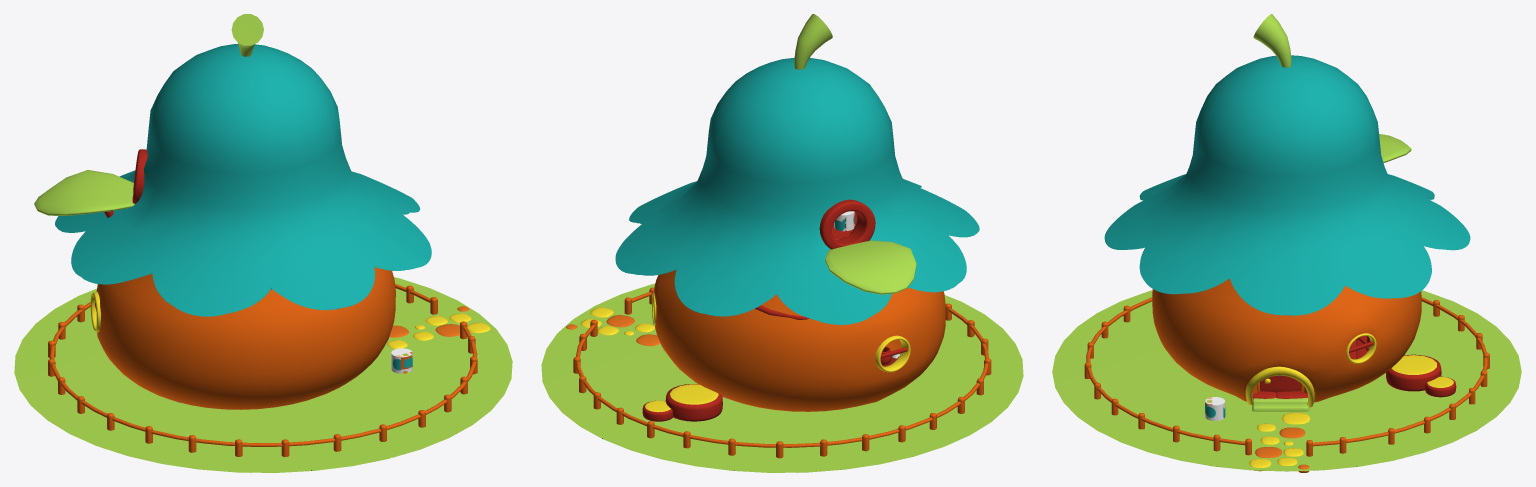
File: HouseWoodle.fbx
3 views of the same model, side by side, from view 1: azimuth 30°, elevation 25°; view 2: azimuth 150°, elevation 25°; view 3: azimuth 270°, elevation 25° (orthographic). The views are drawn at different scales.
Visible parts, largest first — view 1: Roof2, pCylinder8, Structure2, Leaf2, Fence25, House39, House93, Woodle3; view 2: Roof2, pCylinder8, Structure2, Leaf2, Fence25, pCylinder6, House93, House39, Window6, pCylinder7; view 3: Roof2, pCylinder8, Structure2, Fence25, pCylinder6, House39, Structure3, Leaf2, Door3, pCylinder7, Structure4.
Boxes of the visible parts, bbox=[...] form: Roof2: bbox=[55, 44, 431, 316]; pCylinder8: bbox=[14, 277, 512, 472]; Structure2: bbox=[96, 267, 395, 409]; Leaf2: bbox=[34, 170, 134, 215]; Fence25: bbox=[49, 283, 477, 446]; House39: bbox=[231, 14, 263, 56]; House93: bbox=[132, 149, 147, 203]; Woodle3: bbox=[391, 348, 412, 373]; Roof2: bbox=[615, 57, 979, 324]; pCylinder8: bbox=[541, 283, 1023, 472]; Structure2: bbox=[653, 269, 945, 411]; Leaf2: bbox=[825, 240, 916, 294]; Fence25: bbox=[576, 292, 988, 447]; pCylinder6: bbox=[665, 384, 722, 421]; House93: bbox=[819, 199, 875, 249]; House39: bbox=[794, 14, 832, 69]; Window6: bbox=[875, 335, 910, 372]; pCylinder7: bbox=[642, 400, 672, 421]; Roof2: bbox=[1104, 55, 1470, 315]; pCylinder8: bbox=[1052, 290, 1521, 471]; Structure2: bbox=[1152, 278, 1421, 402]; Fence25: bbox=[1086, 297, 1487, 446]; pCylinder6: bbox=[1386, 354, 1441, 391]; House39: bbox=[1253, 14, 1291, 67]; Structure3: bbox=[1245, 366, 1314, 407]; Leaf2: bbox=[1379, 134, 1411, 162]; Door3: bbox=[1260, 375, 1300, 392]; pCylinder7: bbox=[1425, 376, 1456, 397]; Structure4: bbox=[1252, 403, 1309, 411].
Size of what is drawn, in the model's own units: 14.11 by 11.56 by 14.11.
